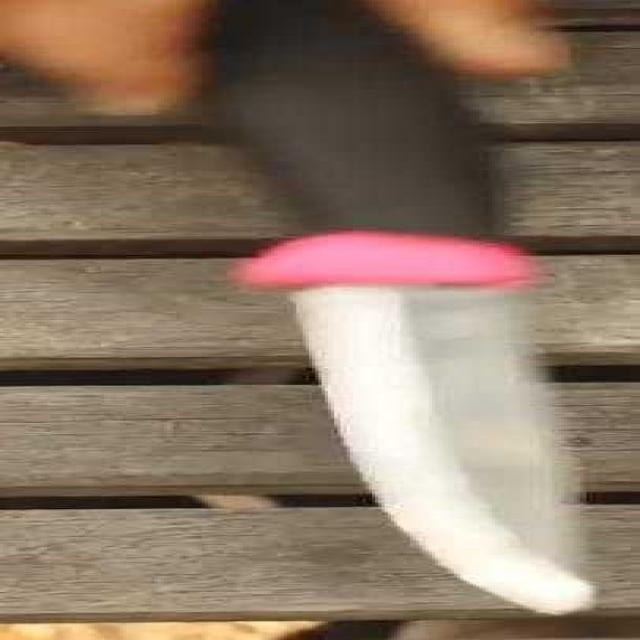Knife: (186, 0, 640, 623)
